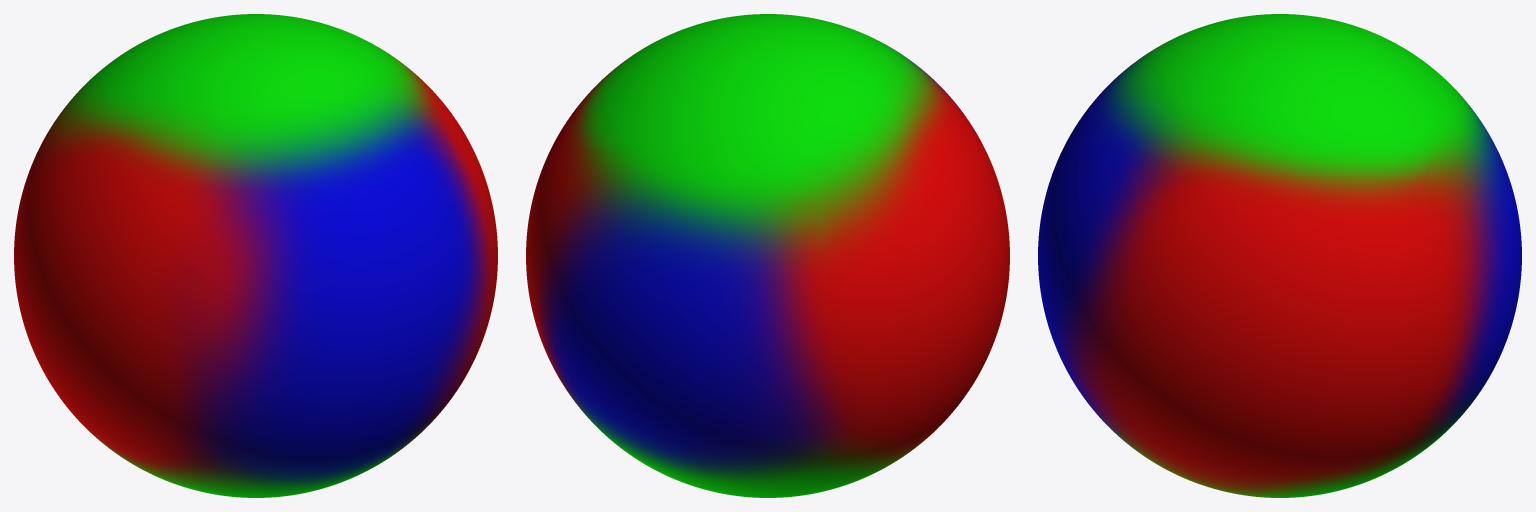
File: SphericalWorld_2.fbx
3 views of the same model, side by side, from view 1: azimuth 30°, elevation 25°; view 2: azimuth 150°, elevation 25°; view 3: azimuth 270°, elevation 25° (orthographic).
Parts seen in each view (by area): view 1: Sphere_1; view 2: Sphere_1; view 3: Sphere_1.
Boxes of the visible parts, left/top/right/bottom form: Sphere_1: left=14, top=14, right=497, bottom=497; Sphere_1: left=526, top=14, right=1009, bottom=497; Sphere_1: left=1038, top=14, right=1521, bottom=497.
Size of the model in its own units: 200 by 200 by 200.
